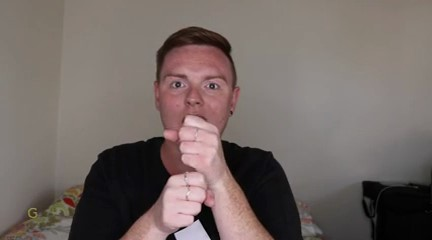G: (155, 112, 225, 234)
